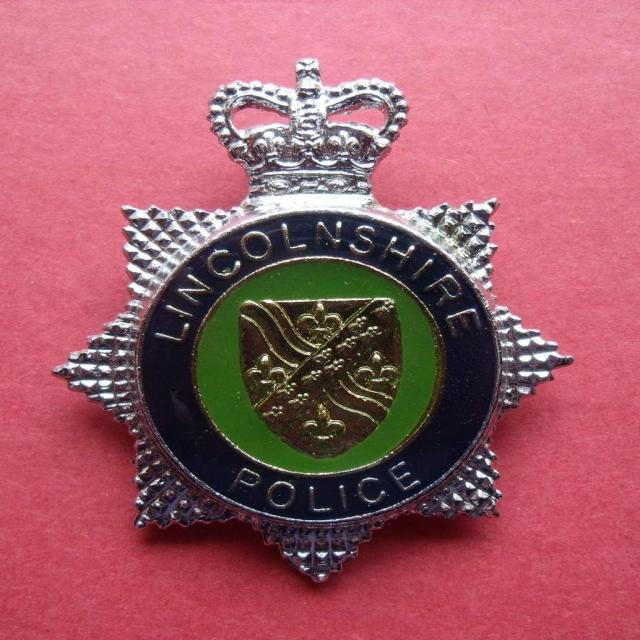Coin: (133, 207, 501, 521)
